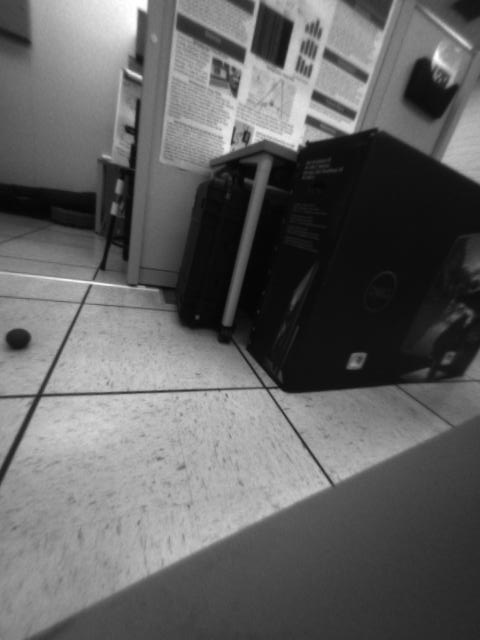dogtoy: (4, 324, 38, 356)
